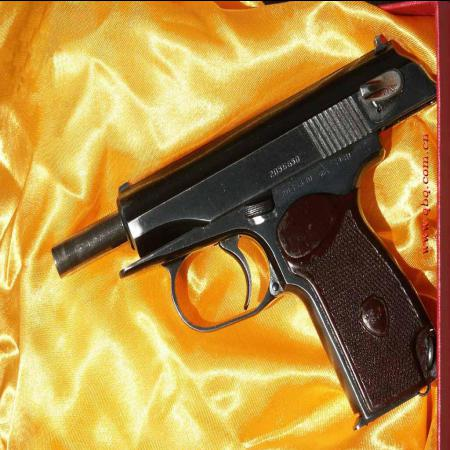Pistol: (48, 38, 436, 426)
